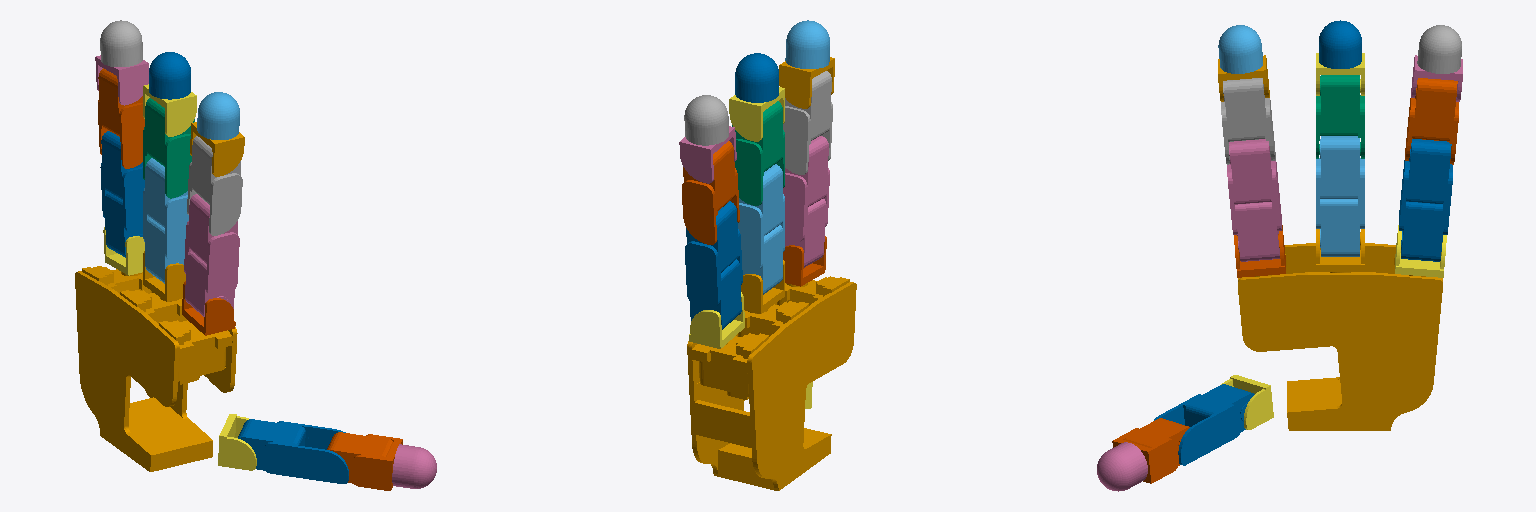
The robot description file, URDF, robot "xarm6":
<?xml version="1.0" encoding="utf-8"?>
<robot name="xarm6">
  <link name="base_link">
    <inertial>
      <mass value="0.4154"/>
      <origin rpy="0 0 0" xyz="0 0 0"/>
      <inertia ixx="1e-4" ixy="0" ixz="0" iyy="1e-4" iyz="0" izz="1e-4"/>
    </inertial>
    <visual>
      <geometry>
        <mesh filename="meshes/visual/base_link_left.obj"/>
      </geometry>
      <origin rpy="-1.570795 0 0" xyz="0 0 0 "/>
    </visual>
    <collision>
      <origin rpy="0 0 0" xyz="-0.009 0.0 -0.04"/>
      <geometry>
        <box size="0.0414 0.112 0.0843"/>
      </geometry>
    </collision>
    <collision>
      <origin rpy="0 0 0" xyz="-0.009300 0.00557 -0.08874"/>
      <geometry>
        <box size="0.0414 0.0720 0.013"/>
      </geometry>
    </collision>
  </link>

  <link name="palm">
  </link>
  <joint name="palm_joint" type="fixed">
    <parent link="base_link"/>
    <child link="palm"/>
    <origin rpy="0.00000 -0.00000 0.00000" xyz="0 0 -0.065"/>
  </joint>

  <!--  virtual link-->
  <link name="wrist">
    <inertial>
      <mass value="0.01"/>
      <origin rpy="0 0 0" xyz="0 0 0"/>
      <inertia ixx="1e-6" ixy="0" ixz="0" iyy="1e-6" iyz="0" izz="1e-6"/>
    </inertial>
  </link>
  <joint name="wrist_joint" type="fixed">
    <origin rpy="0 0 0" xyz="0 0 -0.03"/>
    <parent link="palm"/>
    <child link="wrist"/>
  </joint>

  <link name="link_0.0">
    <visual>
      <geometry>
        <mesh filename="meshes/visual/link_0.0.obj"/>
      </geometry>
    </visual>
    <collision>
      <geometry>
        <box size="0.0196 0.0275 0.0164"/>
      </geometry>
      <origin rpy="0 0 0" xyz="0 0 0.0082"/>
    </collision>
    <inertial>
      <mass value="0.005"/>
      <origin xyz="0 0 0"/>
      <inertia ixx="5.1458e-05" iyy="5.1458e-05" izz="6.125e-05" ixy="0" ixz="0" iyz="0"/>
    </inertial>
  </link>
  <joint name="joint_0.0" type="revolute">
    <axis xyz="0 0 1"/>
    <limit effort="10" lower="-0.47" upper="0.47" velocity="0"/>
    <parent link="base_link"/>
    <child link="link_0.0"/>
    <origin rpy="-0.08726646255 0 0" xyz="0 0.0435 -0.001542"/>
  </joint>
  <link name="link_1.0">
    <inertial>
      <mass value="0.125164"/>
      <origin xyz="0.027 0 0"/>
      <inertia ixx="6.39979e-06" iyy="8.88687e-05" izz="9.13751e-05" ixy="-3.26531e-06" ixz="1.23963e-05"
               iyz="2.07384e-05"/>
    </inertial>
    <visual>
      <geometry>
        <mesh filename="meshes/visual/link_1.0.obj"/>
      </geometry>
    </visual>
    <collision>
      <geometry>
        <box size="0.0196 0.0275 0.054"/>
      </geometry>
      <origin rpy="0 0 0" xyz="0 0 0.027"/>
    </collision>
  </link>
  <joint name="joint_1.0" type="revolute">
    <limit effort="10" lower="-0.196" upper="1.61" velocity="0"/>
    <axis xyz="0 1 0"/>
    <parent link="link_0.0"/>
    <child link="link_1.0"/>
    <origin xyz="0 0 0.0164"/>
  </joint>
  <link name="link_2.0">
    <inertial>
      <mass value="0.131691"/>
      <origin xyz="0.039 0 0"/>
      <inertia ixx="7.04217e-05" iyy="3.95744e-05" izz="6.61125e-05" ixy="-9.64342e-05" ixz="5.8796e-05"
               iyz="-3.62996e-05"/>
    </inertial>
    <visual>
      <geometry>
        <mesh filename="meshes/visual/link_2.0.obj"/>
      </geometry>
    </visual>
    <collision>
      <geometry>
        <box size="0.0196 0.0275 0.0384"/>
      </geometry>
      <origin rpy="0 0 0" xyz="0 0 0.0192"/>
    </collision>
  </link>
  <joint name="joint_2.0" type="revolute">
    <axis xyz="0 1 0"/>
    <limit effort="10" lower="-0.174" upper="1.709" velocity="0"/>
    <parent link="link_1.0"/>
    <child link="link_2.0"/>
    <origin xyz="0 0 0.054"/>
  </joint>
  <link name="link_3.0">
    <inertial>
      <mass value="0.0388"/>
      <origin xyz="0 0 0" rpy="0 0 0"/>
      <inertia ixx="3.29223173333e-05" ixy="8.042076e-06" ixz="5.2283e-06"
               iyy="1.47493026667e-5" iyz="1.1283525e-5" izz="3.29223173333e-05"/>
    </inertial>
    <visual>
      <geometry>
        <mesh filename="meshes/visual/link_3.0.obj"/>
      </geometry>
    </visual>
    <collision>
      <geometry>
        <box size="0.0196 0.0275 0.0267"/>
      </geometry>
      <origin rpy="0 0 0" xyz="0 0 0.01335"/>
    </collision>
    <inertial>
      <origin rpy="0 0 0" xyz="0 0 0.01335"/>
      <mass value="0.02"/>
      <inertia ixx="1e-5" ixy="0.0" ixz="0.0" iyy="2e-5" iyz="0.0" izz="2e-5"/>
    </inertial>
  </link>
  <joint name="joint_3.0" type="revolute">
    <axis xyz="0 1 0"/>
    <limit effort="10" lower="-0.227" upper="1.618" velocity="0"/>
    <parent link="link_2.0"/>
    <child link="link_3.0"/>
    <origin xyz="0 0 0.0384"/>
  </joint>
  <link name="link_3.0_tip">
    <visual>
      <geometry>
        <mesh filename="meshes/visual/link_3.0_tip.obj"/>
      </geometry>
    </visual>
    <collision>
      <geometry>
        <sphere radius="0.012"/>
      </geometry>
    </collision>
  </link>
  <joint name="joint_3.0_tip" type="fixed">
    <parent link="link_3.0"/>
    <child link="link_3.0_tip"/>
    <origin rpy="0 0 0" xyz="0 0 0.0267"/>
  </joint>
  <link name="link_4.0">
    <inertial>
      <mass value="0.005"/>
      <origin xyz="0 0 0"/>
      <inertia ixx="5.1458e-05" iyy="5.1458e-05" izz="6.125e-05" ixy="0" ixz="0" iyz="0"/>
    </inertial>
    <visual>
      <geometry>
        <mesh filename="meshes/visual/link_0.0.obj"/>
      </geometry>
    </visual>
    <collision>
      <geometry>
        <box size="0.0196 0.0275 0.0164"/>
      </geometry>
      <origin rpy="0 0 0" xyz="0 0 0.0082"/>
    </collision>
  </link>
  <joint name="joint_4.0" type="revolute">
    <axis xyz="0 0 1"/>
    <limit effort="10" lower="-0.47" upper="0.47" velocity="0"/>
    <parent link="base_link"/>
    <child link="link_4.0"/>
    <origin rpy="0.0 0 0" xyz="0 0 0.0007"/>
  </joint>
  <link name="link_5.0">
    <inertial>
      <mass value="0.125164"/>
      <origin xyz="0.027 0 0"/>
      <inertia ixx="6.39979e-06" iyy="8.88687e-05" izz="9.13751e-05" ixy="-3.26531e-06" ixz="1.23963e-05"
               iyz="2.07384e-05"/>
    </inertial>
    <visual>
      <geometry>
        <mesh filename="meshes/visual/link_1.0.obj"/>
      </geometry>
    </visual>
    <collision>
      <geometry>
        <box size="0.0196 0.0275 0.054"/>
      </geometry>
      <origin rpy="0 0 0" xyz="0 0 0.027"/>
    </collision>
  </link>
  <joint name="joint_5.0" type="revolute">
    <limit effort="10" lower="-0.196" upper="1.61" velocity="0"/>
    <axis xyz="0 1 0"/>
    <parent link="link_4.0"/>
    <child link="link_5.0"/>
    <origin xyz="0 0 0.0164"/>
  </joint>
  <link name="link_6.0">
    <inertial>
      <mass value="0.131691"/>
      <origin xyz="0.039 0 0"/>
      <inertia ixx="7.04217e-05" iyy="3.95744e-05" izz="6.61125e-05" ixy="-9.64342e-05" ixz="5.8796e-05"
               iyz="-3.62996e-05"/>
    </inertial>
    <visual>
      <geometry>
        <mesh filename="meshes/visual/link_2.0.obj"/>
      </geometry>
    </visual>
    <collision>
      <geometry>
        <box size="0.0196 0.0275 0.0384"/>
      </geometry>
      <origin rpy="0 0 0" xyz="0 0 0.0192"/>
    </collision>
  </link>
  <joint name="joint_6.0" type="revolute">
    <axis xyz="0 1 0"/>
    <limit effort="10" lower="-0.174" upper="1.709" velocity="0"/>
    <parent link="link_5.0"/>
    <child link="link_6.0"/>
    <origin xyz="0 0 0.054"/>
  </joint>
  <link name="link_7.0">
    <inertial>
      <mass value="0.0388"/>
      <origin xyz="0 0 0" rpy="0 0 0"/>
      <inertia ixx="3.29223173333e-05" ixy="8.042076e-06" ixz="5.2283e-06"
               iyy="1.47493026667e-5" iyz="1.1283525e-5" izz="3.29223173333e-05"/>
    </inertial>
    <visual>
      <geometry>
        <mesh filename="meshes/visual/link_3.0.obj"/>
      </geometry>
    </visual>
    <collision>
      <geometry>
        <box size="0.0196 0.0275 0.0267"/>
      </geometry>
      <origin rpy="0 0 0" xyz="0 0 0.01335"/>
    </collision>
  </link>
  <joint name="joint_7.0" type="revolute">
    <axis xyz="0 1 0"/>
    <limit effort="10" lower="-0.227" upper="1.618" velocity="0"/>
    <parent link="link_6.0"/>
    <child link="link_7.0"/>
    <origin xyz="0 0 0.0384"/>
  </joint>
  <link name="link_7.0_tip">
    <visual>
      <geometry>
        <mesh filename="meshes/visual/link_3.0_tip.obj"/>
      </geometry>
    </visual>
    <collision>
      <geometry>
        <sphere radius="0.012"/>
      </geometry>
    </collision>
  </link>
  <joint name="joint_7.0_tip" type="fixed">
    <parent link="link_7.0"/>
    <child link="link_7.0_tip"/>
    <origin rpy="0 0 0" xyz="0 0 0.0267"/>
  </joint>
  <link name="link_8.0">
    <inertial>
      <mass value="0.005"/>
      <origin xyz="0 0 0"/>
      <inertia ixx="5.1458e-05" iyy="5.1458e-05" izz="6.125e-05" ixy="0" ixz="0" iyz="0"/>
    </inertial>
    <visual>
      <geometry>
        <mesh filename="meshes/visual/link_0.0.obj"/>
      </geometry>
    </visual>
    <collision>
      <geometry>
        <box size="0.0196 0.0275 0.0164"/>
      </geometry>
      <origin rpy="0 0 0" xyz="0 0 0.0082"/>
    </collision>
  </link>
  <joint name="joint_8.0" type="revolute">
    <axis xyz="0 0 1"/>
    <limit effort="10" lower="-0.47" upper="0.47" velocity="0"/>
    <parent link="base_link"/>
    <child link="link_8.0"/>
    <origin rpy="0.08726646255 0 0" xyz="0 -0.0435 -0.001542"/>
  </joint>
  <link name="link_9.0">
    <inertial>
      <mass value="0.125164"/>
      <origin xyz="0.027 0 0"/>
      <inertia ixx="6.39979e-06" iyy="8.88687e-05" izz="9.13751e-05" ixy="-3.26531e-06" ixz="1.23963e-05"
               iyz="2.07384e-05"/>
    </inertial>
    <visual>
      <geometry>
        <mesh filename="meshes/visual/link_1.0.obj"/>
      </geometry>
    </visual>
    <collision>
      <geometry>
        <box size="0.0196 0.0275 0.054"/>
      </geometry>
      <origin rpy="0 0 0" xyz="0 0 0.027"/>
    </collision>
  </link>
  <joint name="joint_9.0" type="revolute">
    <limit effort="10" lower="-0.196" upper="1.61" velocity="0"/>
    <axis xyz="0 1 0"/>
    <parent link="link_8.0"/>
    <child link="link_9.0"/>
    <origin xyz="0 0 0.0164"/>
  </joint>
  <link name="link_10.0">
    <inertial>
      <mass value="0.131691"/>
      <origin xyz="0.039 0 0"/>
      <inertia ixx="7.04217e-05" iyy="3.95744e-05" izz="6.61125e-05" ixy="-9.64342e-05" ixz="5.8796e-05"
               iyz="-3.62996e-05"/>
    </inertial>
    <visual>
      <geometry>
        <mesh filename="meshes/visual/link_2.0.obj"/>
      </geometry>
    </visual>
    <collision>
      <geometry>
        <box size="0.0196 0.0275 0.0384"/>
      </geometry>
      <origin rpy="0 0 0" xyz="0 0 0.0192"/>
    </collision>
  </link>
  <joint name="joint_10.0" type="revolute">
    <axis xyz="0 1 0"/>
    <limit effort="10" lower="-0.174" upper="1.709" velocity="0"/>
    <parent link="link_9.0"/>
    <child link="link_10.0"/>
    <origin xyz="0 0 0.054"/>
  </joint>
  <link name="link_11.0">
    <inertial>
      <mass value="0.0388"/>
      <origin xyz="0 0 0" rpy="0 0 0"/>
      <inertia ixx="3.29223173333e-05" ixy="8.042076e-06" ixz="5.2283e-06"
               iyy="1.47493026667e-5" iyz="1.1283525e-5" izz="3.29223173333e-05"/>
    </inertial>
    <visual>
      <geometry>
        <mesh filename="meshes/visual/link_3.0.obj"/>
      </geometry>
    </visual>
    <collision>
      <geometry>
        <box size="0.0196 0.0275 0.0267"/>
      </geometry>
      <origin rpy="0 0 0" xyz="0 0 0.01335"/>
    </collision>
  </link>
  <joint name="joint_11.0" type="revolute">
    <axis xyz="0 1 0"/>
    <limit effort="10" lower="-0.227" upper="1.618" velocity="0"/>
    <parent link="link_10.0"/>
    <child link="link_11.0"/>
    <origin xyz="0 0 0.0384"/>
  </joint>
  <link name="link_11.0_tip">
    <visual>
      <geometry>
        <mesh filename="meshes/visual/link_3.0_tip.obj"/>
      </geometry>
    </visual>
    <collision>
      <geometry>
        <sphere radius="0.012"/>
      </geometry>
    </collision>
  </link>
  <joint name="joint_11.0_tip" type="fixed">
    <parent link="link_11.0"/>
    <child link="link_11.0_tip"/>
    <origin rpy="0 0 0" xyz="0 0 0.0267"/>
  </joint>
  <!-- THUMB -->
  <link name="link_12.0">
    <inertial>
      <mass value="0.005"/>
      <origin xyz="0 0 0"/>
      <inertia ixx="5.1458e-05" iyy="5.1458e-05" izz="6.125e-05" ixy="0" ixz="0" iyz="0"/>
    </inertial>
    <visual>
      <geometry>
         <mesh filename="meshes/visual/link_12.0_left.obj" />
      </geometry>
      <origin rpy="3.14159 0 0" xyz="0 0 0"/>
    </visual>
    <collision>
      <geometry>
        <box size="0.0358 0.034 0.0455"/>
      </geometry>
      <origin rpy="0 0 0" xyz="-0.0179 -0.009 0.0145"/>
    </collision>
  </link>
  <joint name="joint_12.0" type="revolute">
    <axis xyz="1 0 0"/>
    <limit effort="10" lower="0.263" upper="1.396" velocity="0"/>
    <parent link="base_link"/>
    <child link="link_12.0"/>
    <origin xyz="-0.0182 -0.019333 -0.045987" rpy="0 -1.65806278845 1.5707963259" />
  </joint>
  <link name="link_13.0">
    <inertial>
      <mass value="0.125164"/>
      <origin xyz="0.027 0 0"/>
      <inertia ixx="6.39979e-06" iyy="8.88687e-05" izz="9.13751e-05" ixy="-3.26531e-06" ixz="1.23963e-05"
               iyz="2.07384e-05"/>
    </inertial>
    <visual>
      <geometry>
        <mesh filename="meshes/visual/link_13.0.obj"/>
      </geometry>
    </visual>
    <collision>
      <geometry>
        <box size="0.0196 0.0275 0.0177"/>
      </geometry>
      <origin rpy="0 0 0" xyz="0 0 0.00885"/>
    </collision>
  </link>
  <joint name="joint_13.0" type="revolute">
    <axis xyz="0 0 -1"/>
    <limit effort="10" lower="-0.105" upper="1.163" velocity="0"/>
    <parent link="link_12.0"/>
    <child link="link_13.0"/>
    <origin xyz="-0.027 0.005 0.0399"/>
  </joint>
  <link name="link_14.0">
    <inertial>
      <mass value="0.131691"/>
      <origin xyz="0.039 0 0"/>
      <inertia ixx="7.04217e-05" iyy="3.95744e-05" izz="6.61125e-05" ixy="-9.64342e-05" ixz="5.8796e-05"
               iyz="-3.62996e-05"/>
    </inertial>
    <visual>
      <geometry>
        <mesh filename="meshes/visual/link_14.0.obj"/>
      </geometry>
    </visual>
    <collision>
      <geometry>
        <box size="0.0196 0.0275 0.0514"/>
      </geometry>
      <origin rpy="0 0 0" xyz="0 0 0.0257"/>
    </collision>
  </link>
  <joint name="joint_14.0" type="revolute">
    <axis xyz="0 1 0"/>
    <limit effort="10" lower="-0.189" upper="1.644" velocity="0"/>
    <parent link="link_13.0"/>
    <child link="link_14.0"/>
    <origin xyz="0 0 0.0177"/>
  </joint>
  <link name="link_15.0">
    <inertial>
      <mass value="0.0388"/>
      <origin xyz="0 0 0" rpy="0 0 0"/>
      <inertia ixx="3.29223173333e-05" ixy="8.042076e-06" ixz="5.2283e-06"
               iyy="1.47493026667e-5" iyz="1.1283525e-5" izz="3.29223173333e-05"/>
    </inertial>
    <visual>
      <geometry>
        <mesh filename="meshes/visual/link_15.0.obj"/>
      </geometry>
    </visual>
    <collision>
      <geometry>
        <box size="0.0196 0.0275 0.0423"/>
      </geometry>
      <origin rpy="0 0 0" xyz="0 0 0.02115"/>
    </collision>
  </link>
  <joint name="joint_15.0" type="revolute">
    <axis xyz="0 1 0"/>
    <limit effort="10" lower="-0.162" upper="1.719" velocity="0"/>
    <parent link="link_14.0"/>
    <child link="link_15.0"/>
    <origin xyz="0 0 0.0514"/>
  </joint>
  <link name="link_15.0_tip">
    <visual>
      <geometry>
        <mesh filename="meshes/visual/link_15.0_tip.obj"/>
      </geometry>
    </visual>
    <collision>
      <geometry>
        <sphere radius="0.012"/>
      </geometry>
      <origin rpy="0 0 0" xyz="0 0 0"/>
    </collision>
  </link>
  <joint name="joint_15.0_tip" type="fixed">
    <parent link="link_15.0"/>
    <child link="link_15.0_tip"/>
    <origin rpy="0 0 0" xyz="0 0 0.0423"/>
  </joint>
</robot>

--- What the picture shows (computed from the rendered views, not written in the file) ---
The picture shows the robot from 3 angles, left to right: view 1: azimuth 30°, elevation 25°; view 2: azimuth 150°, elevation 25°; view 3: azimuth 270°, elevation 25°; orthographic projection.
Model xarm6 with 23 links and 22 joints (16 revolute, 6 fixed), rooted at base_link, posed all joints at 0 but 1 set to mid-range because 0 is outside their limits (joint_12.0 = 0.8295).
Visible links, largest first — view 1: base_link, link_14.0, link_9.0, link_5.0, link_1.0, link_10.0, link_15.0, link_6.0, link_2.0, link_11.0_tip, link_7.0_tip, link_3.0_tip (+8 smaller); view 2: base_link, link_1.0, link_9.0, link_5.0, link_2.0, link_10.0, link_6.0, link_3.0_tip, link_7.0_tip, link_11.0_tip, link_0.0, link_11.0 (+4 smaller); view 3: base_link, link_9.0, link_1.0, link_5.0, link_14.0, link_10.0, link_2.0, link_6.0, link_15.0, link_15.0_tip, link_3.0_tip, link_11.0_tip (+8 smaller).
Boxes of the visible links, x1,y1,x2,y2 form: base_link: [75, 266, 237, 471]; link_14.0: [238, 419, 348, 483]; link_9.0: [184, 194, 239, 316]; link_5.0: [143, 158, 188, 283]; link_1.0: [100, 131, 144, 257]; link_10.0: [187, 136, 242, 235]; link_15.0: [327, 432, 402, 490]; link_6.0: [143, 98, 194, 198]; link_2.0: [98, 68, 144, 168]; link_11.0_tip: [197, 92, 239, 139]; link_7.0_tip: [149, 52, 190, 99]; link_3.0_tip: [100, 20, 142, 66]; base_link: [687, 276, 856, 490]; link_1.0: [685, 201, 742, 329]; link_9.0: [783, 136, 829, 267]; link_5.0: [738, 164, 784, 294]; link_2.0: [682, 141, 739, 244]; link_10.0: [783, 71, 832, 174]; link_6.0: [732, 101, 784, 205]; link_3.0_tip: [684, 95, 728, 145]; link_7.0_tip: [735, 53, 778, 102]; link_11.0_tip: [785, 20, 829, 68]; link_0.0: [689, 292, 744, 348]; link_11.0: [779, 57, 834, 108]; base_link: [1238, 243, 1442, 430]; link_9.0: [1227, 139, 1281, 261]; link_1.0: [1399, 139, 1452, 261]; link_5.0: [1316, 136, 1364, 256]; link_14.0: [1154, 384, 1254, 465]; link_10.0: [1221, 78, 1275, 164]; link_2.0: [1405, 78, 1458, 164]; link_6.0: [1316, 75, 1364, 158]; link_15.0: [1112, 418, 1189, 483]; link_15.0_tip: [1097, 442, 1147, 491]; link_3.0_tip: [1417, 25, 1461, 73]; link_11.0_tip: [1218, 25, 1262, 73].
Bounding box of the posed robot: 0.1315 × 0.2022 × 0.2432 m (x, y, z).
20 mesh visuals loaded from 11 distinct referenced files (10 OBJ); not drawn: 1 (reference not matched to a file when rendering).